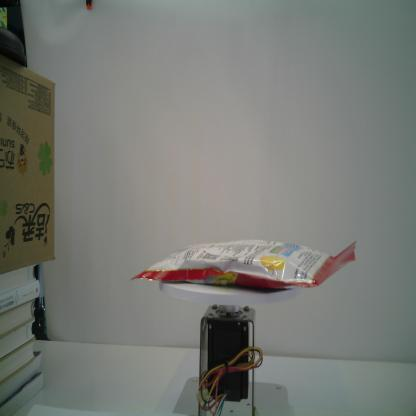Instant Drink: (129, 239, 356, 288)
